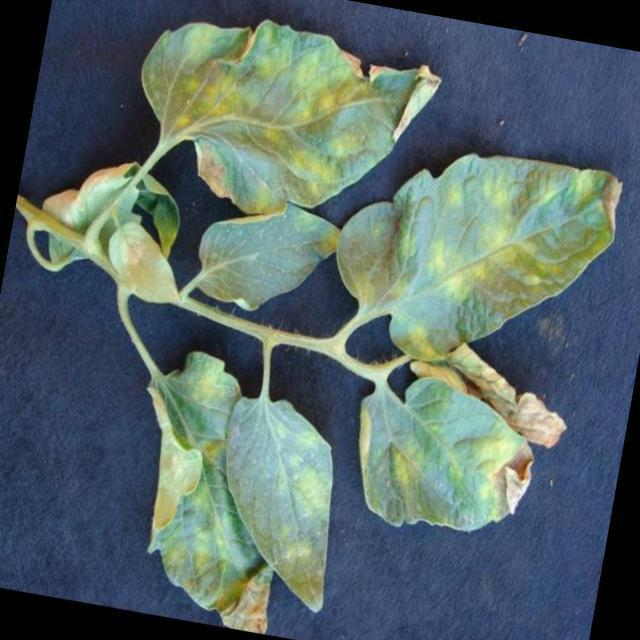Mosaic Virus: (368, 131, 608, 363), (130, 15, 408, 214), (136, 361, 286, 624), (228, 404, 350, 593), (362, 384, 518, 518), (99, 216, 186, 312)
